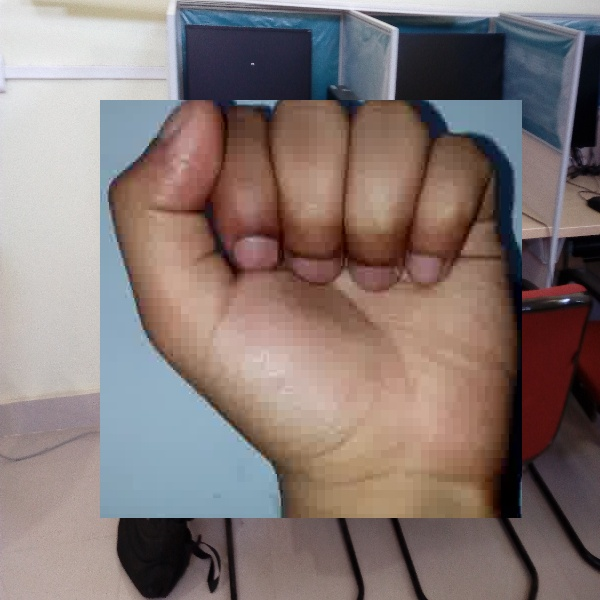A: (100, 100, 522, 518)
